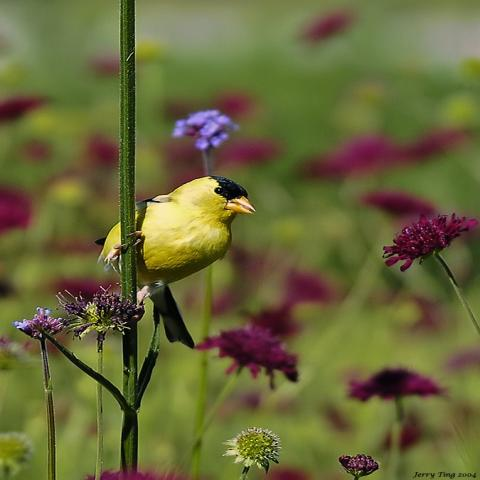bird: (92, 173, 257, 349)
